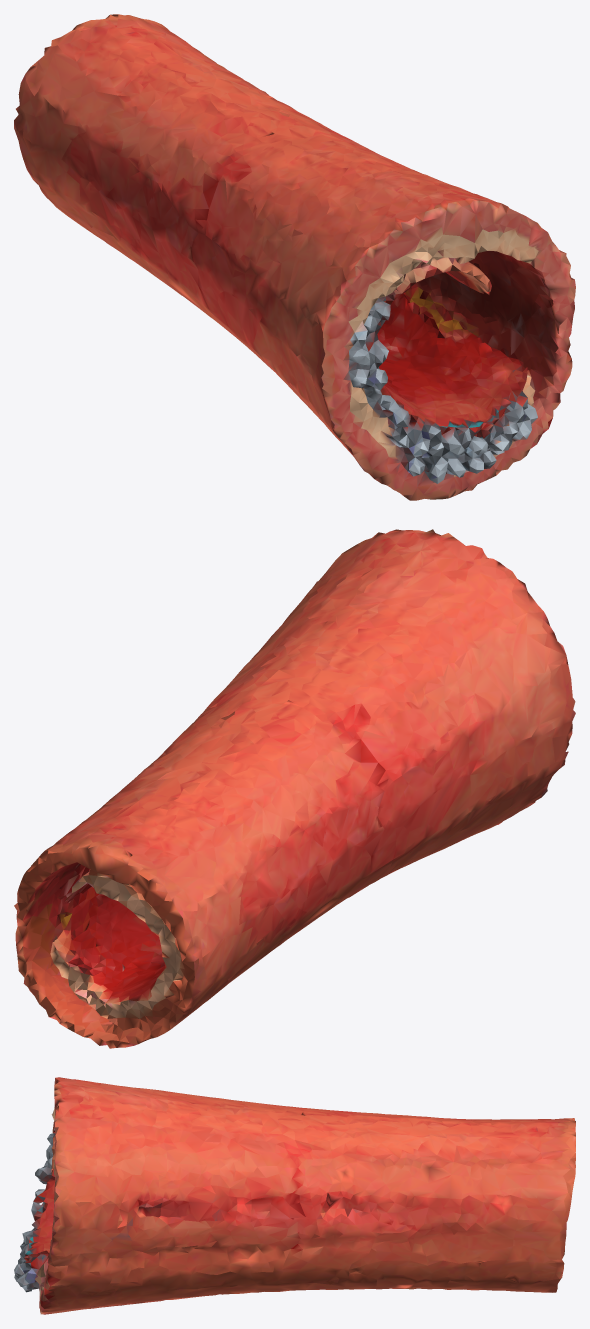
The model's file is heart3afa.glb.
3 renders of one model, top to bottom at view 1: azimuth 30°, elevation 25°; view 2: azimuth 150°, elevation 25°; view 3: azimuth 270°, elevation 25°, orthographic. The views are drawn at different scales.
Visible parts, largest first — view 1: arteria_taponada_por__0328191335_texture; view 2: arteria_taponada_por__0328191335_texture; view 3: arteria_taponada_por__0328191335_texture.
Boxes of the visible parts, x1,y1,x2,y2 form: arteria_taponada_por__0328191335_texture: [14, 14, 575, 500]; arteria_taponada_por__0328191335_texture: [14, 529, 575, 1048]; arteria_taponada_por__0328191335_texture: [14, 1077, 575, 1314].
Size of the model in its own units: 0.8066 by 0.8637 by 2.
Materials: 1 (1 with a texture image).
